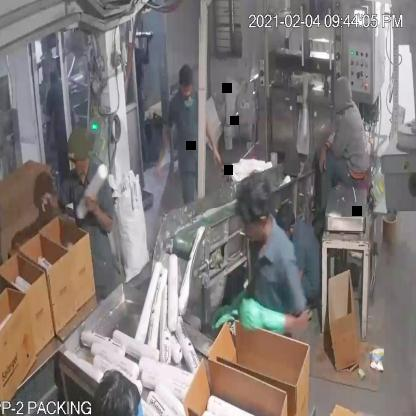glove: (235, 292, 292, 342), (211, 284, 249, 333)
no_glove: (81, 190, 118, 240), (154, 113, 174, 188), (202, 111, 223, 170), (39, 186, 64, 220), (313, 137, 334, 173)
